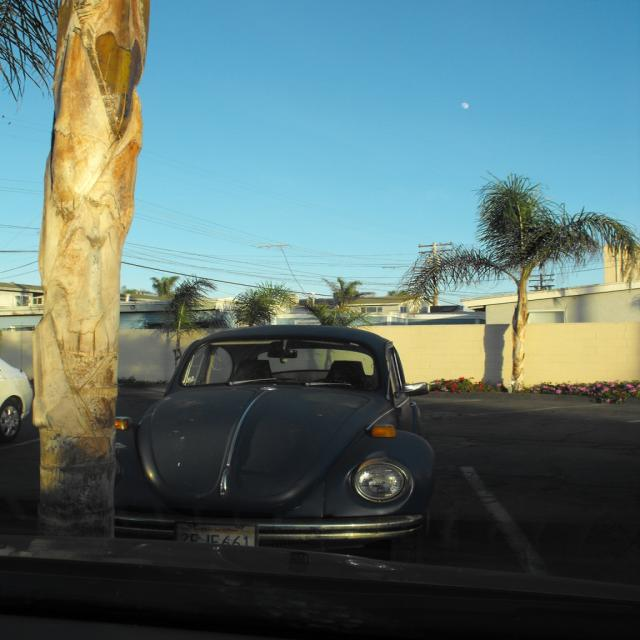car: (122, 319, 435, 551)
